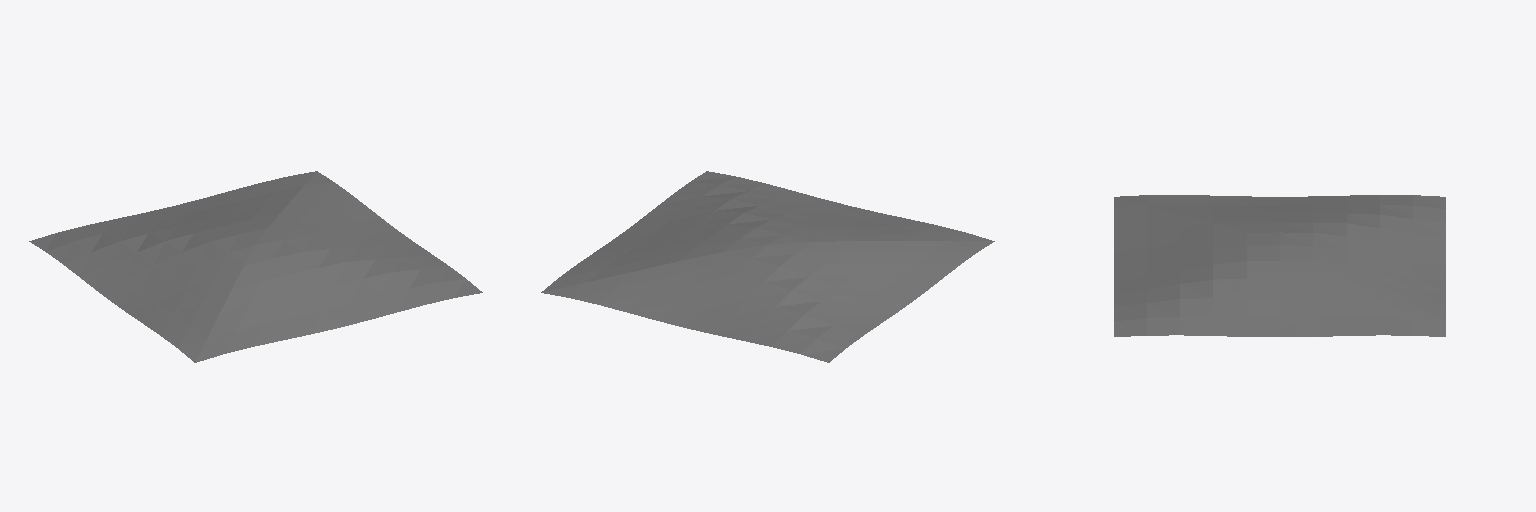
File: GrassMound.obj
3 renders of one model, left to right at view 1: azimuth 30°, elevation 25°; view 2: azimuth 150°, elevation 25°; view 3: azimuth 270°, elevation 25°, orthographic.
Size of the model in its own units: 19.58 by 1.44 by 19.58.